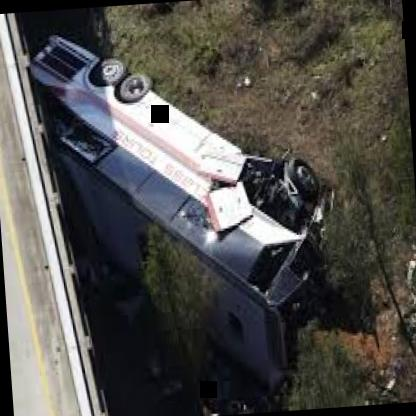accident: (28, 1, 371, 404)
